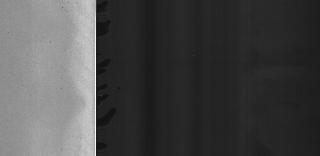inclusion: (59, 71, 67, 92), (62, 115, 72, 123), (62, 45, 70, 53), (61, 2, 68, 11), (59, 15, 65, 23)
silk spot: (0, 7, 38, 144)
